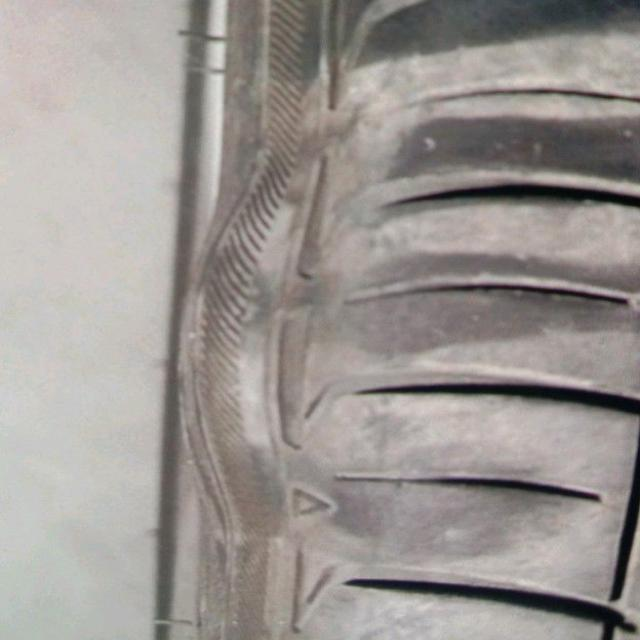Bulge: (166, 136, 354, 546)
